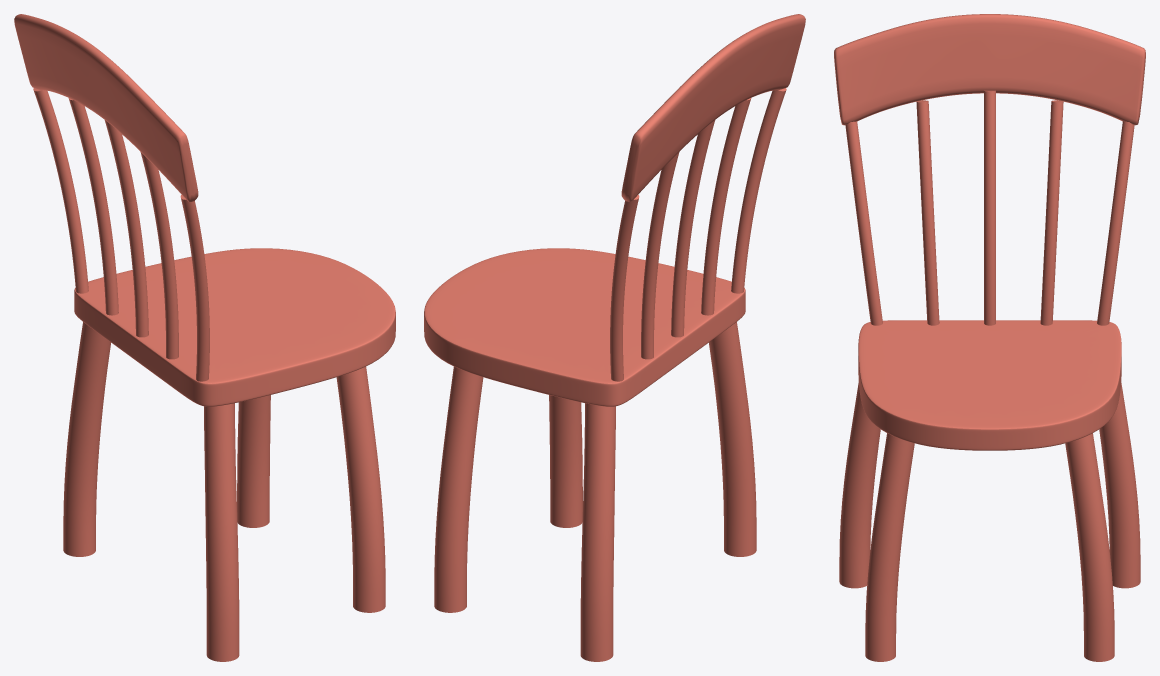
Rendered from chair.glb.
3 renders of one model, left to right at view 1: azimuth 30°, elevation 25°; view 2: azimuth 150°, elevation 25°; view 3: azimuth 270°, elevation 25°, orthographic. The views are drawn at different scales.
Visible parts, largest first — view 1: Cube, Cylinder.001, Cylinder, NurbsCurve; view 2: Cube, Cylinder.001, Cylinder, NurbsCurve; view 3: Cube, NurbsCurve, Cylinder.001, Cylinder.
Boxes of the visible parts, bbox=[...] form: Cube: bbox=[74, 248, 395, 406]; Cylinder.001: bbox=[63, 322, 385, 661]; Cylinder: bbox=[33, 88, 209, 381]; NurbsCurve: bbox=[14, 14, 198, 201]; Cube: bbox=[424, 248, 745, 406]; Cylinder.001: bbox=[434, 322, 756, 661]; Cylinder: bbox=[610, 88, 786, 381]; NurbsCurve: bbox=[621, 14, 805, 201]; Cube: bbox=[858, 320, 1121, 450]; NurbsCurve: bbox=[834, 14, 1145, 125]; Cylinder.001: bbox=[839, 382, 1140, 661]; Cylinder: bbox=[845, 90, 1134, 325].
Bounding box in the file's own units: 602 × 1150 × 603.
